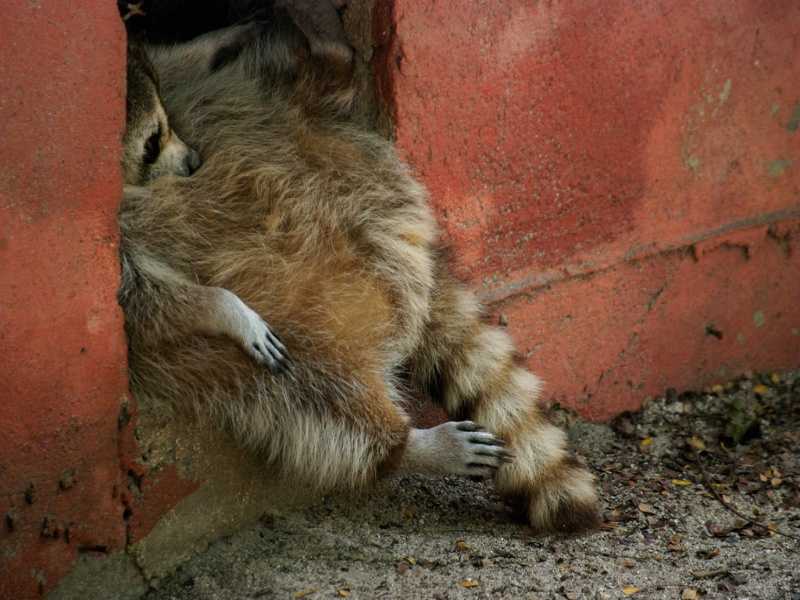raccoon: (103, 31, 605, 532)
